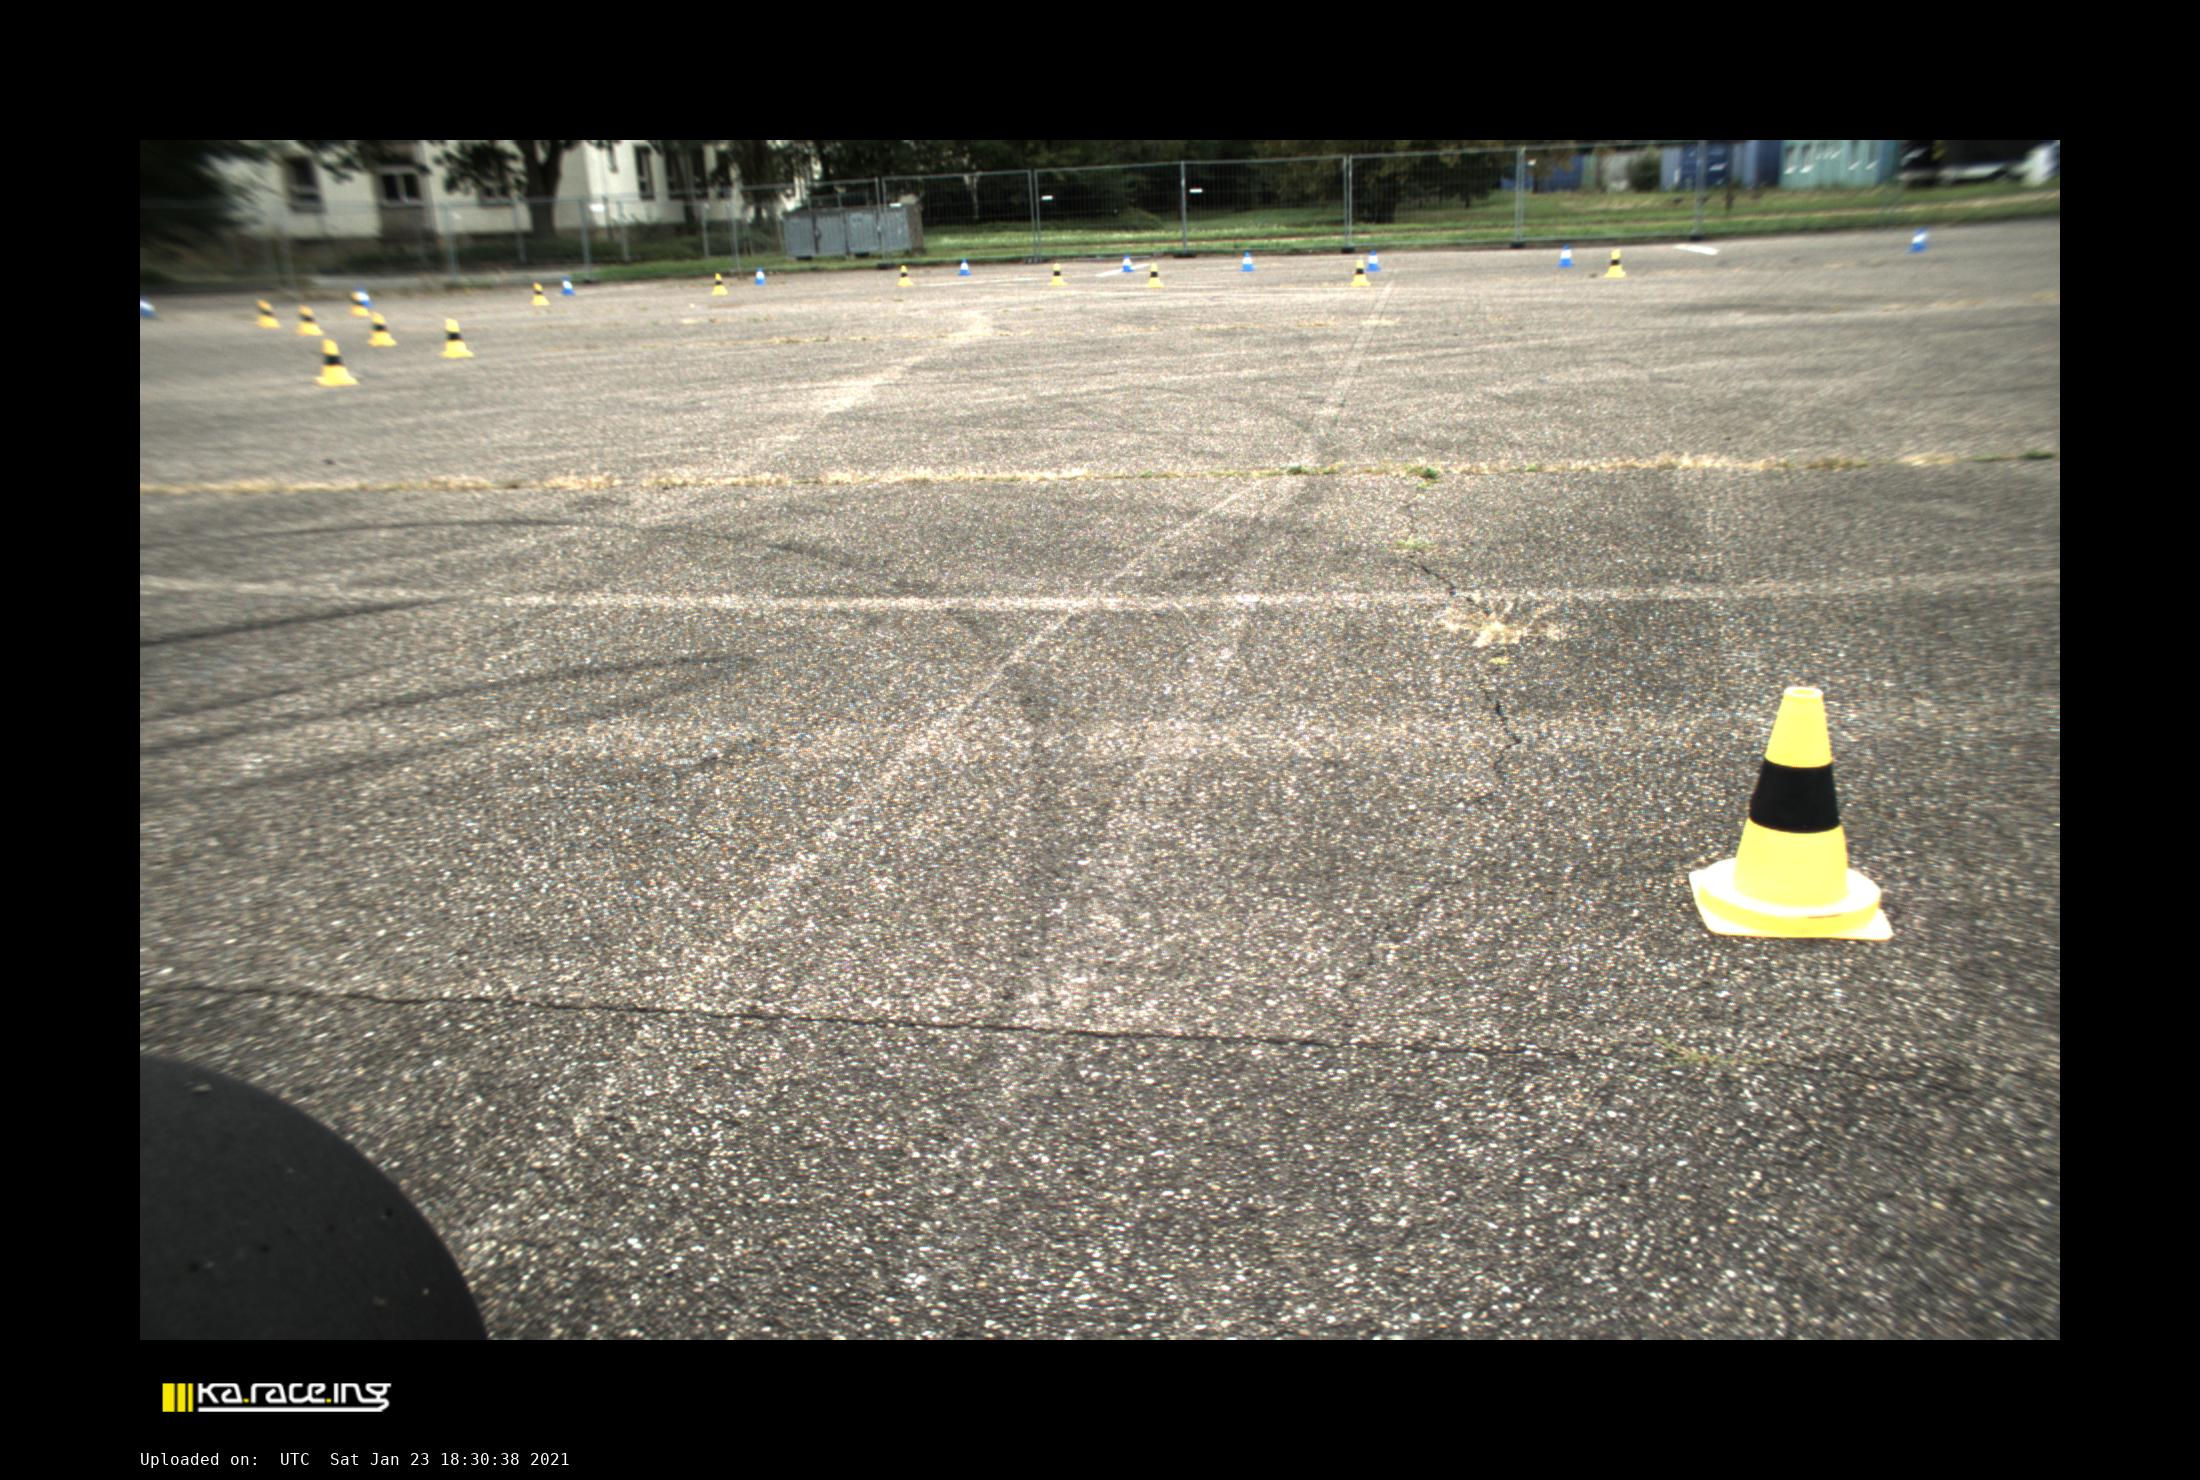blue_cone: (1906, 226, 1931, 253), (140, 294, 159, 319), (1558, 244, 1574, 268), (357, 287, 373, 307), (1366, 249, 1381, 271), (1240, 253, 1255, 273), (560, 276, 575, 294), (958, 258, 971, 276), (1121, 254, 1135, 273), (755, 268, 766, 286)
yellow_cone: (1690, 687, 1893, 940), (317, 340, 357, 385), (444, 319, 472, 357), (370, 312, 396, 345), (296, 306, 324, 335), (256, 299, 281, 329), (1604, 249, 1625, 277), (350, 291, 370, 317), (1145, 263, 1164, 287), (1351, 259, 1369, 286), (1049, 263, 1067, 286), (532, 282, 548, 306), (712, 273, 728, 296), (898, 264, 913, 286)
